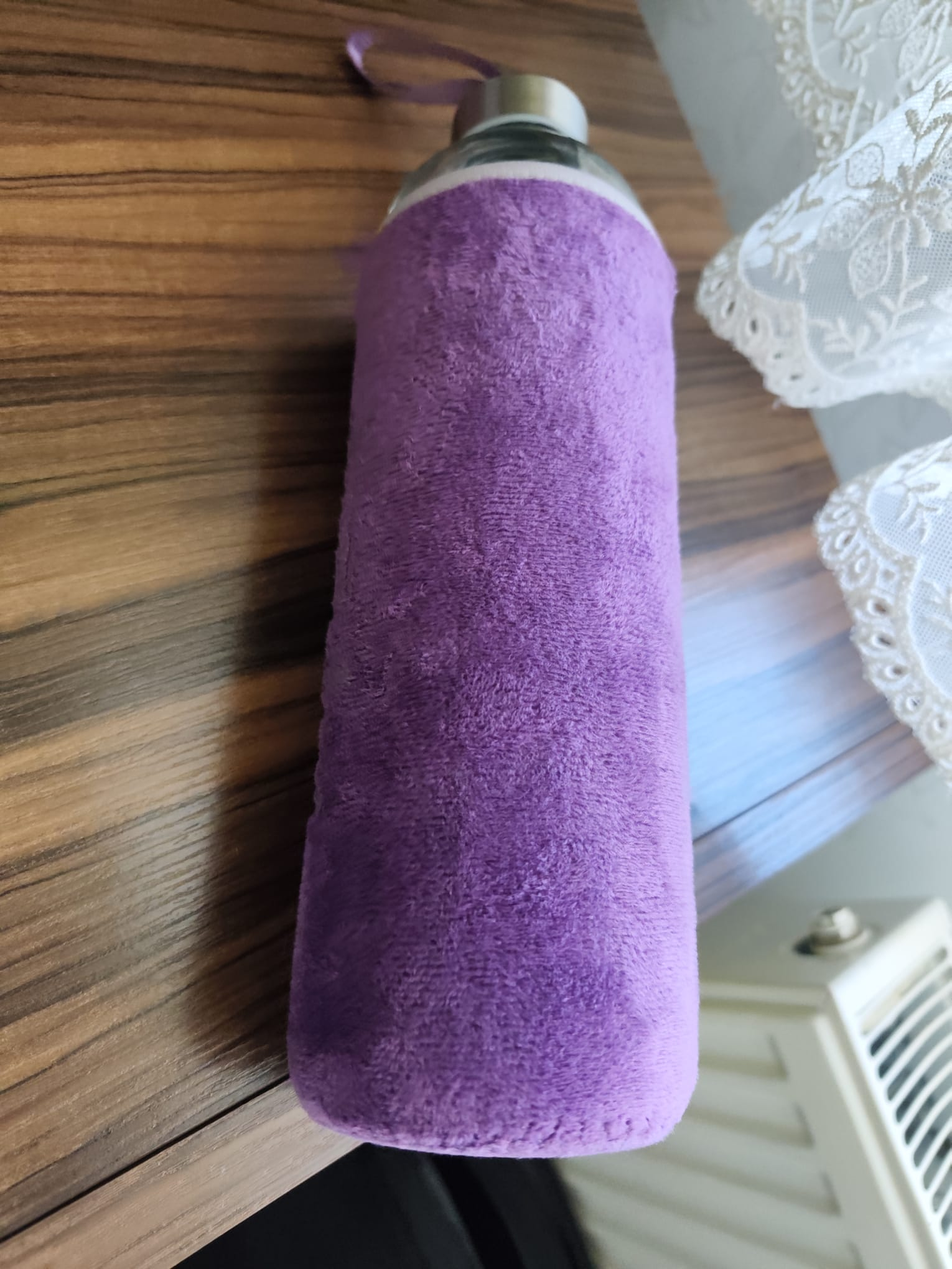su_sisesi: (302, 7, 710, 1165)
